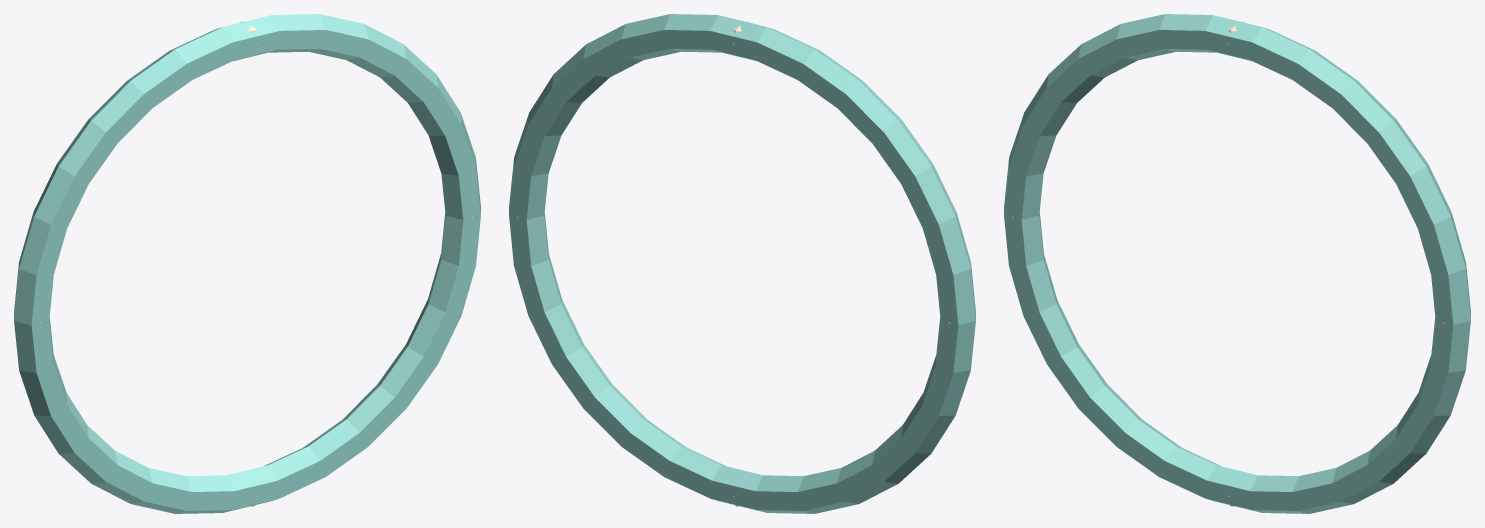
Rendered from aro_punto_dulce.glb.
3 views of the same model, side by side, from view 1: azimuth 30°, elevation 25°; view 2: azimuth 150°, elevation 25°; view 3: azimuth 330°, elevation 25° (orthographic).
Visible parts, largest first — view 1: aro_punto_dulce; view 2: aro_punto_dulce; view 3: aro_punto_dulce.
Part boxes in pixels (x1,y1,x2,y2): aro_punto_dulce: [14, 14, 480, 513]; aro_punto_dulce: [509, 14, 975, 513]; aro_punto_dulce: [1004, 14, 1470, 513].
Bounding box in the file's own units: 1.19 × 1.18 × 0.08.
